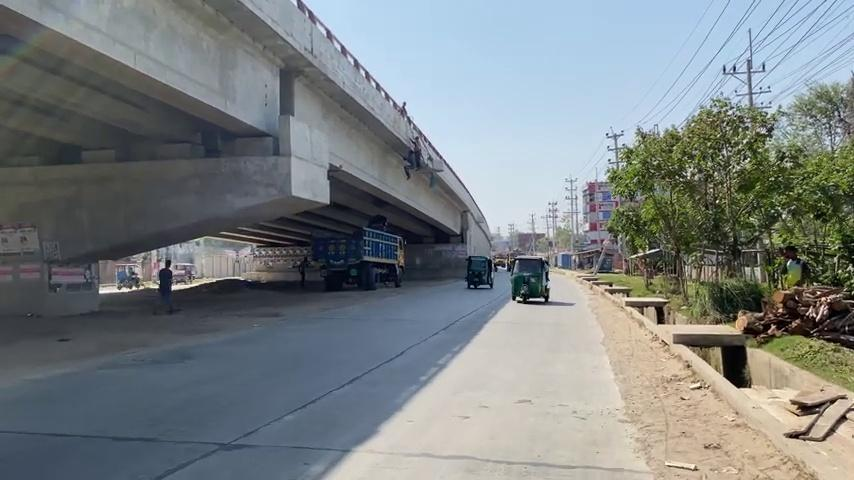Construction-barrier: (735, 284, 853, 349)
Fallen-tree: (0, 0, 494, 277)
Fence: (780, 245, 810, 288), (158, 259, 174, 314), (298, 256, 308, 288)
Garbage-bin: (619, 287, 747, 370)
Rickshaw: (310, 225, 406, 290), (508, 255, 549, 303), (115, 263, 140, 290)
